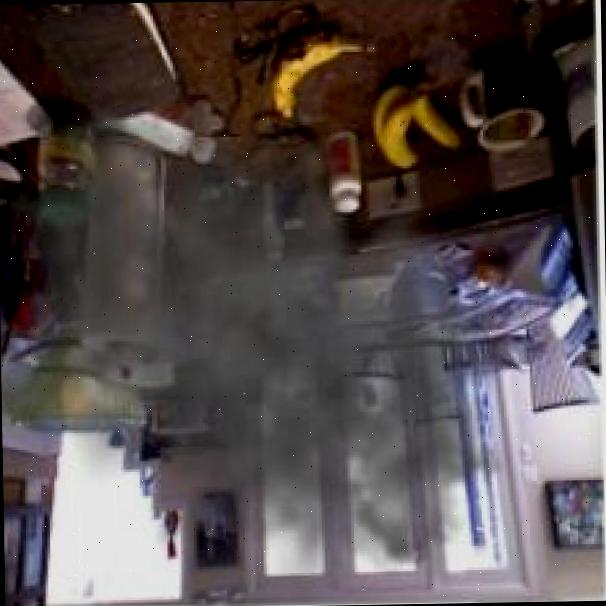smoke: (0, 55, 542, 606)
